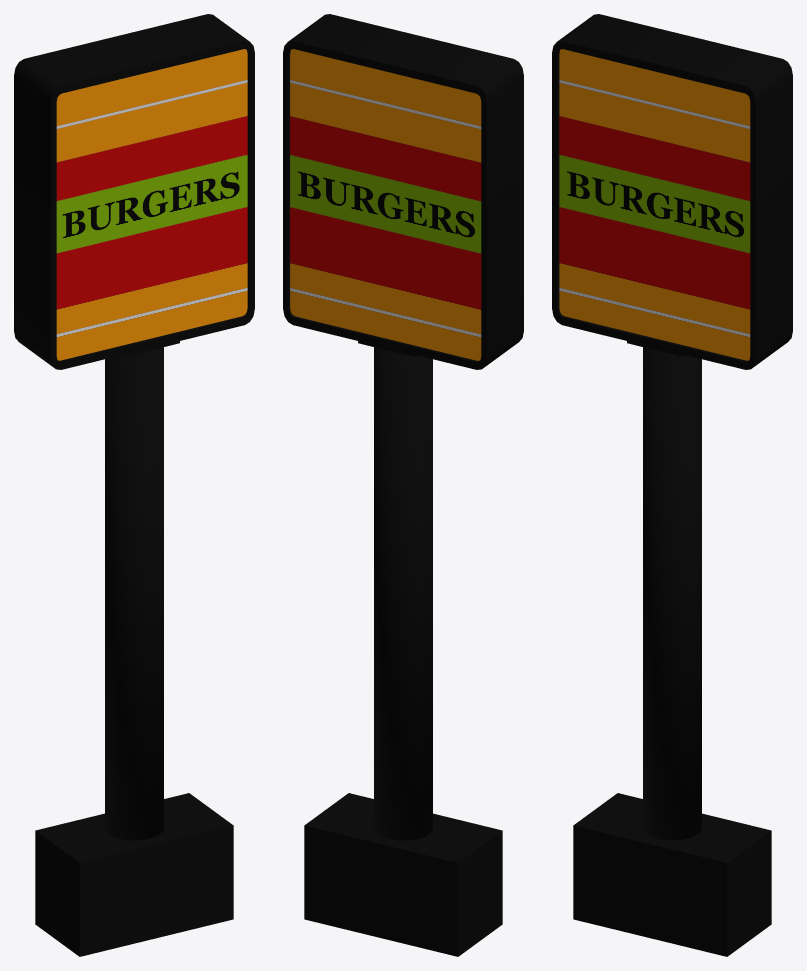
File: Advertisement_AdTower_01.fbx
3 renders of one model, left to right at view 1: azimuth 30°, elevation 25°; view 2: azimuth 150°, elevation 25°; view 3: azimuth 330°, elevation 25°, orthographic.
Visible parts, largest first — view 1: Prop_Advertisement_AdTower_01_Mesh_LOD0; view 2: Prop_Advertisement_AdTower_01_Mesh_LOD0; view 3: Prop_Advertisement_AdTower_01_Mesh_LOD0.
Boxes of the visible parts, x1=… form: Prop_Advertisement_AdTower_01_Mesh_LOD0: x1=14, y1=14, x2=254, y2=956; Prop_Advertisement_AdTower_01_Mesh_LOD0: x1=283, y1=14, x2=523, y2=956; Prop_Advertisement_AdTower_01_Mesh_LOD0: x1=552, y1=14, x2=792, y2=956.
Size of what is drawn, in the model's own units: 1.59 by 0.6 by 6.5.
Materials: 2 (1 with a texture image).
